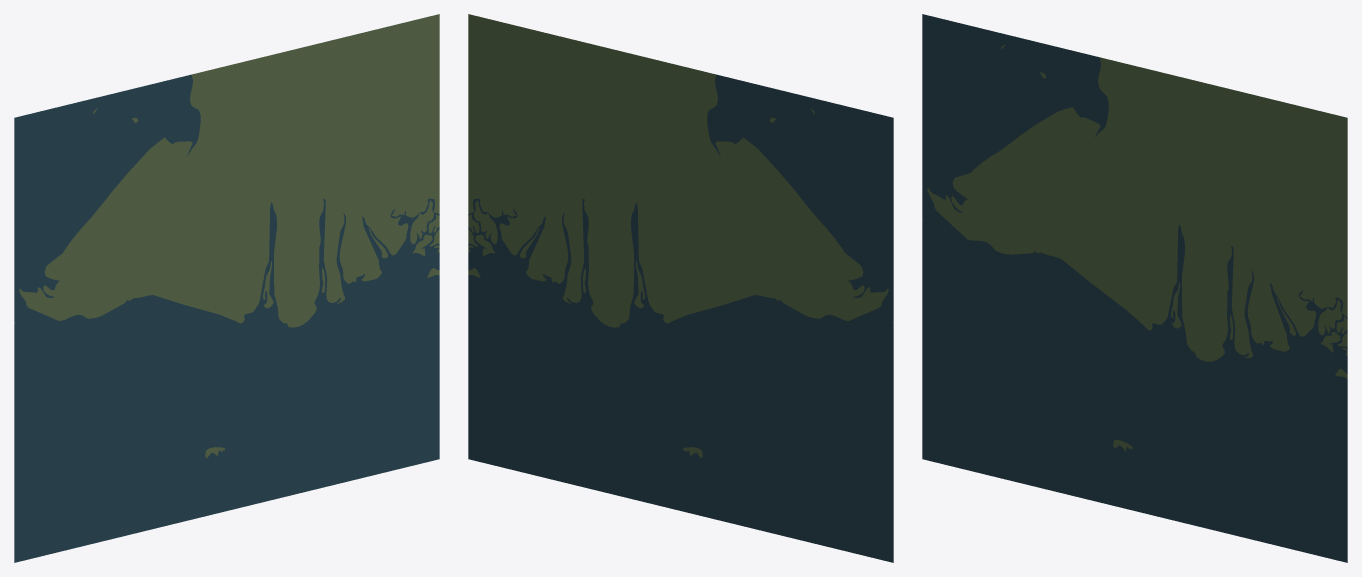
Rendered from shape_100_Coast_00.glb.
The picture shows the model from 3 angles, left to right: view 1: azimuth 30°, elevation 25°; view 2: azimuth 150°, elevation 25°; view 3: azimuth 330°, elevation 25°; orthographic projection.
Bounding box in the file's own units: 4096 × 4096 × 0.
